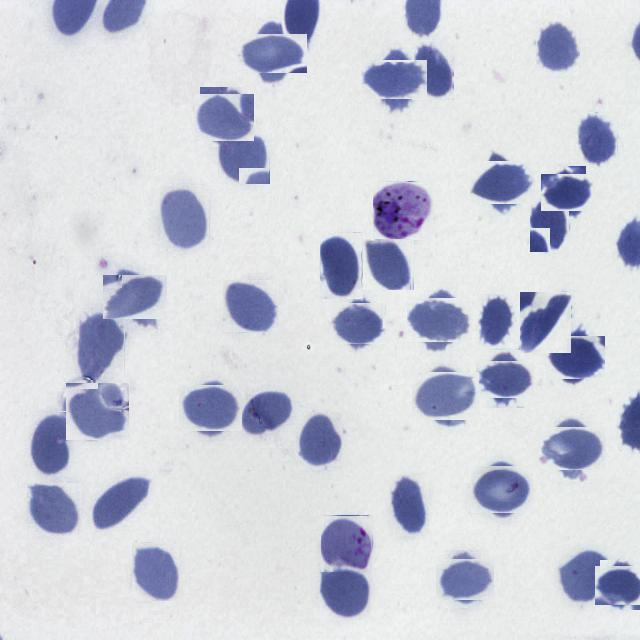red blood cell: (67, 382, 127, 442), (417, 367, 475, 425), (77, 310, 125, 380), (92, 477, 152, 533), (160, 184, 210, 251), (520, 291, 572, 353), (412, 293, 468, 348), (544, 421, 600, 476), (474, 462, 530, 516), (224, 278, 278, 334), (244, 26, 300, 80), (184, 381, 238, 436), (559, 546, 609, 605), (197, 90, 251, 144), (476, 156, 530, 210), (28, 482, 82, 536), (108, 270, 162, 324), (30, 411, 74, 477), (132, 542, 180, 601), (320, 232, 362, 299), (368, 53, 421, 106), (218, 130, 270, 184), (319, 566, 371, 620), (549, 332, 601, 384), (362, 239, 414, 290), (298, 412, 342, 470), (243, 386, 294, 436), (440, 554, 490, 604), (412, 42, 454, 100), (536, 21, 580, 76), (390, 476, 429, 538), (334, 299, 382, 348), (530, 195, 570, 252), (481, 355, 528, 403), (578, 112, 618, 166), (478, 293, 516, 348), (545, 170, 590, 215), (598, 562, 640, 607)
ring: (321, 515, 373, 572)
trophozoite: (373, 182, 433, 242)
